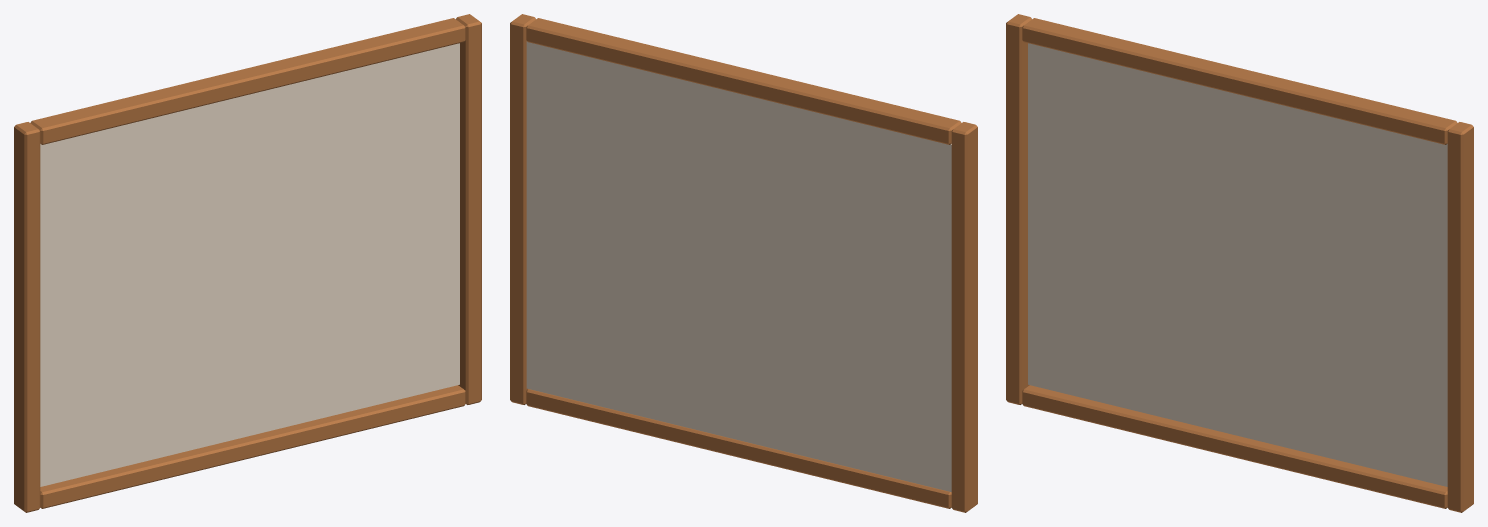
Rendered from worldMap.glb.
3 views of the same model, side by side, from view 1: azimuth 30°, elevation 25°; view 2: azimuth 150°, elevation 25°; view 3: azimuth 330°, elevation 25° (orthographic).
Visible parts, largest first — view 1: worldMap_canvas, worldMap_rail_1, worldMap_side_-1, worldMap_rail_-1, worldMap_side_1; view 2: worldMap_canvas, worldMap_rail_1, worldMap_side_-1, worldMap_rail_-1, worldMap_side_1; view 3: worldMap_canvas, worldMap_rail_1, worldMap_side_1, worldMap_rail_-1, worldMap_side_-1.
Boxes of the visible parts, bbox=[...] form: worldMap_canvas: bbox=[40, 43, 459, 486]; worldMap_rail_1: bbox=[30, 18, 465, 144]; worldMap_side_-1: bbox=[14, 122, 40, 512]; worldMap_rail_-1: bbox=[40, 385, 465, 508]; worldMap_side_1: bbox=[456, 14, 481, 404]; worldMap_canvas: bbox=[526, 41, 951, 491]; worldMap_rail_1: bbox=[526, 18, 961, 144]; worldMap_side_-1: bbox=[951, 122, 977, 512]; worldMap_rail_-1: bbox=[526, 389, 951, 508]; worldMap_side_1: bbox=[510, 14, 535, 404]; worldMap_canvas: bbox=[1028, 43, 1447, 486]; worldMap_rail_1: bbox=[1022, 18, 1457, 144]; worldMap_side_1: bbox=[1447, 122, 1473, 512]; worldMap_rail_-1: bbox=[1022, 385, 1447, 508]; worldMap_side_-1: bbox=[1006, 14, 1031, 404].
Bounding box in the file's own units: 1.71 × 1.36 × 0.08.
